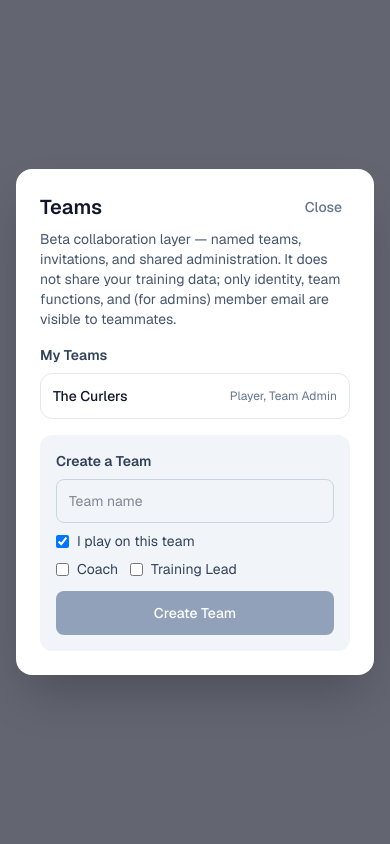
Test: TeamsScreen — signed in › lets an athlete control the Team's prospective Exercise recording permission
Click the text "The Curlers": (90, 396) [53,386,128,406]
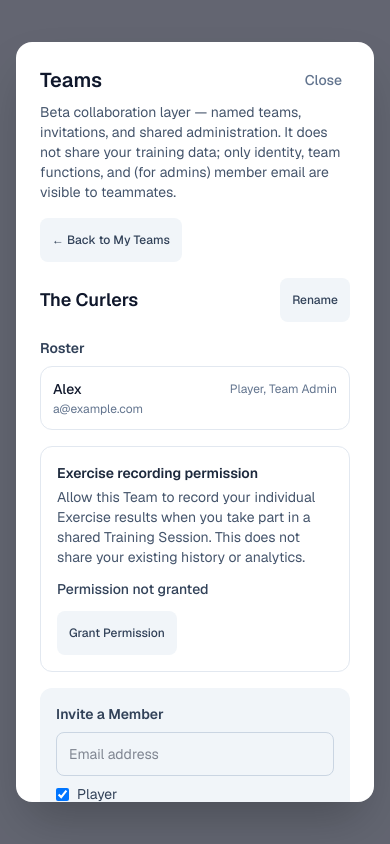
Expected: the heading "Exercise recording permission" is shown, [57,464,258,482]
Click the button "Grant Permission": (117, 633) [57,611,177,655]
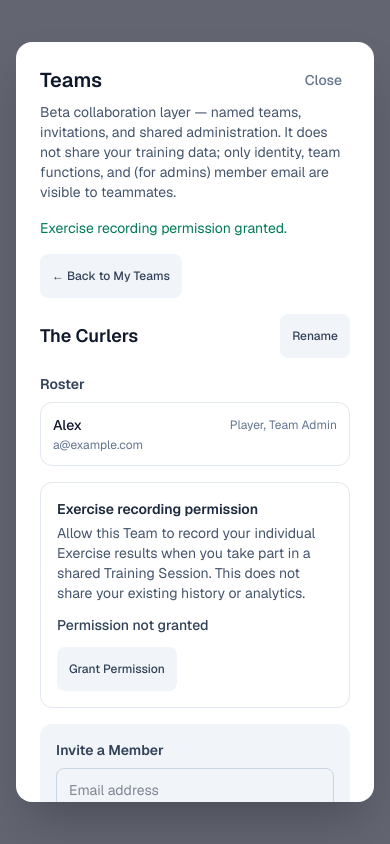
Expected: the text "Exercise recording permission granted." is shown, [40,219,287,237]
